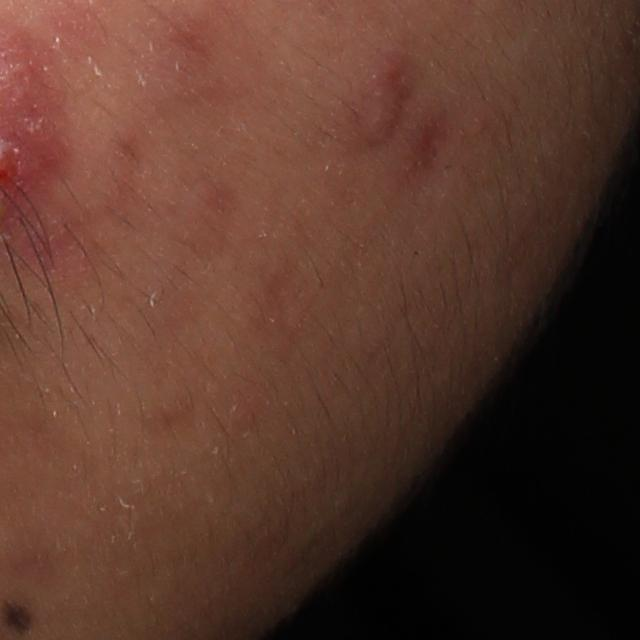papule: (351, 78, 411, 151), (7, 100, 69, 147)
